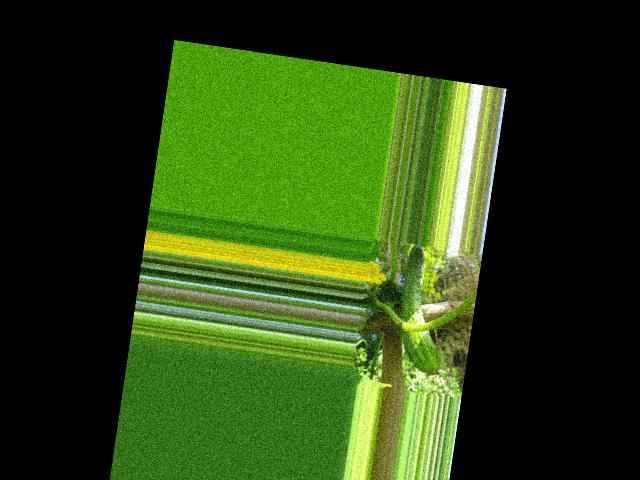cucumber: (391, 243, 456, 376)
